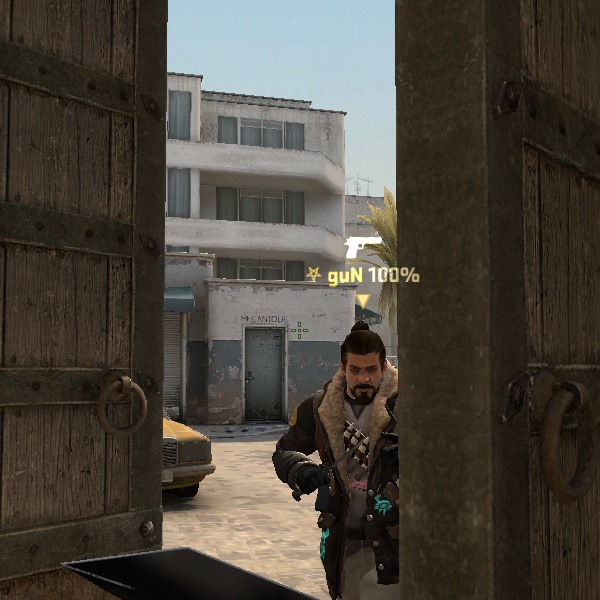t_body: (275, 317, 420, 600)
t_head: (320, 319, 401, 407)
